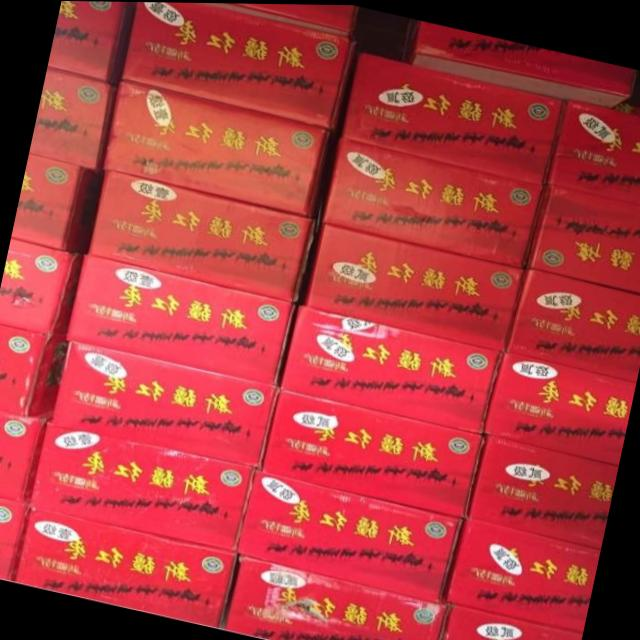box: (102, 77, 332, 214), (86, 168, 316, 302), (235, 469, 464, 601), (66, 253, 294, 385), (48, 339, 276, 470), (300, 221, 526, 351), (29, 422, 253, 553), (120, 2, 354, 127), (320, 138, 545, 267), (341, 51, 563, 181), (259, 386, 484, 514), (279, 307, 505, 434), (11, 506, 236, 629), (225, 555, 447, 640), (409, 21, 635, 104), (444, 514, 600, 632), (464, 432, 618, 547), (482, 351, 635, 463), (506, 267, 640, 382), (527, 181, 640, 292), (546, 95, 640, 202), (30, 65, 117, 169), (0, 235, 85, 337), (11, 152, 86, 251), (0, 326, 72, 422), (47, 1, 128, 83), (439, 601, 582, 640), (204, 2, 356, 34), (0, 411, 48, 508), (0, 499, 30, 580)
